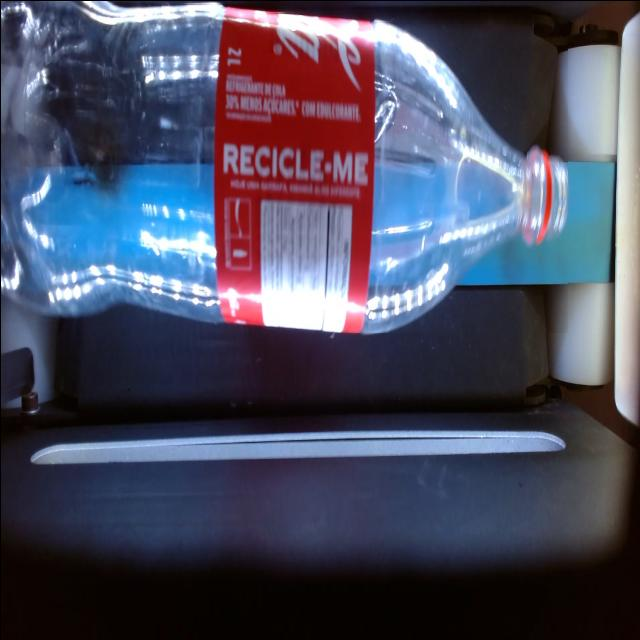bottom: (1, 3, 221, 320)
label: (213, 12, 373, 331)
neck: (362, 21, 566, 331)
